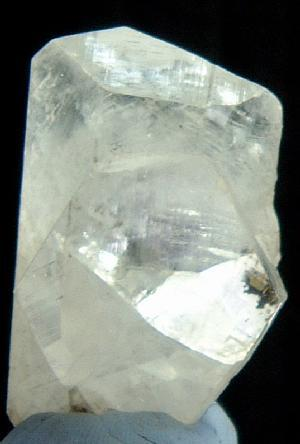calcite: (7, 28, 287, 425)
